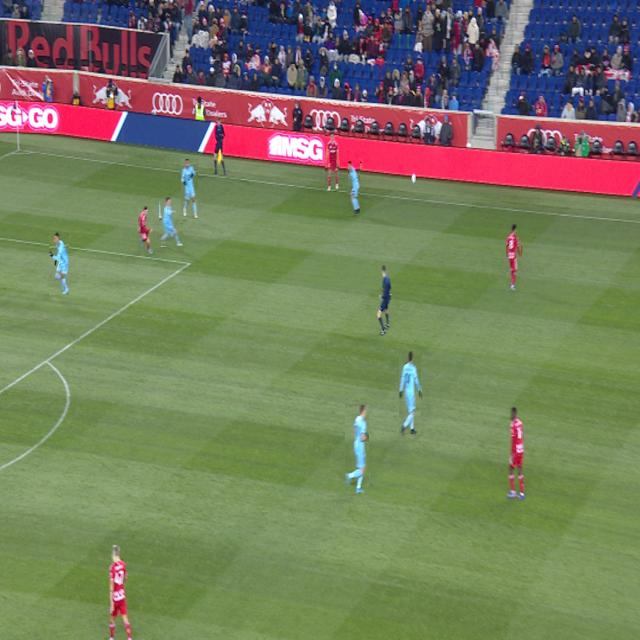football: (411, 174, 416, 183)
player: (109, 545, 132, 640), (346, 404, 369, 494), (400, 351, 421, 437), (507, 407, 525, 499), (50, 233, 69, 295), (160, 198, 183, 246), (181, 159, 198, 219), (507, 224, 521, 291), (325, 132, 339, 191), (138, 207, 153, 254), (349, 160, 360, 216)
referee: (377, 266, 391, 335)
